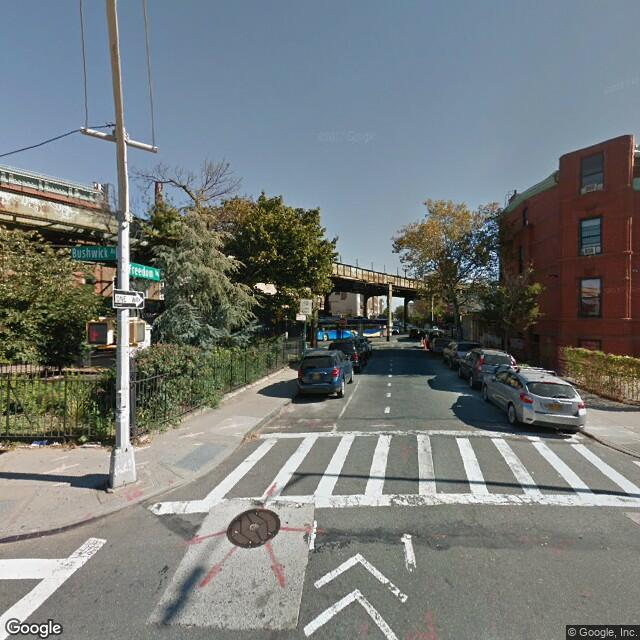litter: (22, 437, 60, 452)
